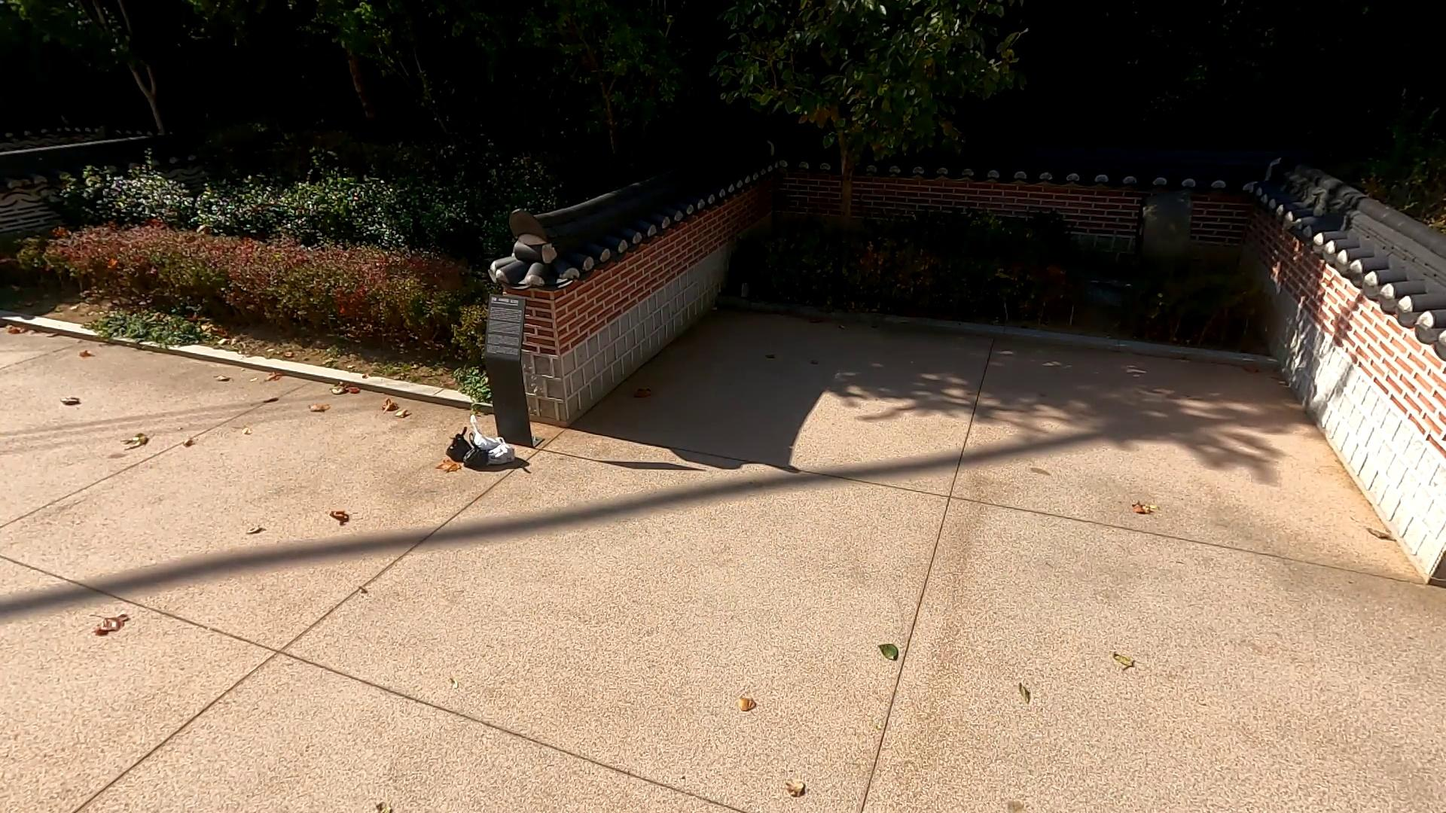trash: (445, 426, 472, 464), (471, 414, 499, 449), (463, 433, 488, 471), (488, 437, 515, 466)
